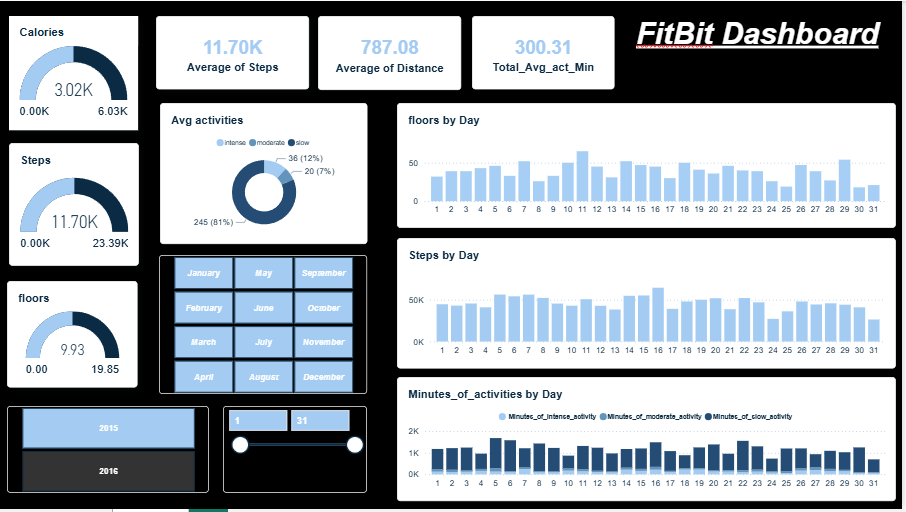

This screenshot's page, from the dashboard's own definition file:
{"tool":"powerbi","page":{"name":"Page 1","canvas":[1280,720],"ordinal":0},"visuals":[{"type":"gauge","title":"Calories","fields":{"Y":["Avg(data_fit.Calories)"]},"box":[15.6,21.3,182.8,161.6],"z":0},{"type":"gauge","title":" Steps","fields":{"Y":["Avg(data_fit.Steps)"]},"box":[15.6,201.3,184.3,174.3],"z":1000},{"type":"gauge","title":" floors","fields":{"Y":["Avg(CSV.floors)"]},"box":[13.4,396.4,184.8,151.2],"z":2000},{"type":"card","fields":{"Values":["Avg(CSV.Distance)"]},"box":[453.5,21.3,202.7,104.9],"z":3000},{"type":"card","fields":{"Values":["Avg(CSV.Steps)"]},"box":[223.4,21.8,216.7,104.1],"z":4000},{"type":"donutChart","title":"Avg activities","fields":{"Y":["Avg(data_fit.Minutes_of_intense_activity)","Avg(data_fit.Minutes_of_moderate_activity)","Avg(data_fit.Minutes_of_slow_activity)"]},"box":[230.1,144.9,294.1,200.3],"z":5000},{"type":"slicer","fields":{"Values":["data_fit.Date.Variation.Date Hierarchy.Month"]},"box":[228.2,360,294.8,197],"z":6000},{"type":"columnChart","fields":{"Y":["Sum(data_fit.Steps)"],"Category":["data_fit.Date.Variation.Date Hierarchy.Day"]},"box":[566.1,336,707.2,184.8],"z":7000},{"type":"clusteredColumnChart","fields":{"Y":["Sum(data_fit.floors)"],"Category":["data_fit.Date.Variation.Date Hierarchy.Day"]},"box":[565.5,144.6,707.2,177.2],"z":8000},{"type":"columnChart","title":" Minutes_of_activities by Day","fields":{"Y":["Sum(data_fit.Minutes_of_intense_activity)","Sum(data_fit.Minutes_of_moderate_activity)","Sum(data_fit.Minutes_of_slow_activity)"],"Category":["data_fit.Date.Variation.Date Hierarchy.Day"]},"box":[566.1,532.5,707.2,176.4],"z":9000},{"type":"slicer","fields":{"Values":["data_fit.Date.Variation.Date Hierarchy.Day"]},"box":[318.9,574,204.1,123.3],"z":10000},{"type":"slicer","fields":{"Values":["data_fit.Date.Variation.Date Hierarchy.Year"]},"box":[12.8,574,286.3,123.3],"z":11000},{"type":"textbox","box":[904.3,21.3,368.5,70.9],"z":12000},{"type":"card","fields":{"Values":["data_fit.Total_Avg_Minutes"]},"box":[671.9,21.8,201.6,104.1],"z":13000}]}

Visuals, with their boxes in screenshot pixels (x1, y1, x2, y2), scaled from the page's 1280x720 canvas onto the 906x512 screenshot:
"Calories" gauge: (left=11, top=15, right=140, bottom=130)
" Steps" gauge: (left=11, top=143, right=141, bottom=267)
" floors" gauge: (left=9, top=282, right=140, bottom=389)
card - Avg(CSV.Distance): (left=321, top=15, right=464, bottom=90)
card - Avg(CSV.Steps): (left=158, top=16, right=312, bottom=90)
"Avg activities" donutChart: (left=163, top=103, right=371, bottom=245)
slicer - data_fit.Date.Variation.Date Hierarchy.Month: (left=162, top=256, right=370, bottom=396)
columnChart - Sum(data_fit.Steps) x data_fit.Date.Variation.Date Hierarchy.Day: (left=401, top=239, right=901, bottom=370)
clusteredColumnChart - Sum(data_fit.floors) x data_fit.Date.Variation.Date Hierarchy.Day: (left=400, top=103, right=901, bottom=229)
" Minutes_of_activities by Day" columnChart: (left=401, top=379, right=901, bottom=504)
slicer - data_fit.Date.Variation.Date Hierarchy.Day: (left=226, top=408, right=370, bottom=496)
slicer - data_fit.Date.Variation.Date Hierarchy.Year: (left=9, top=408, right=212, bottom=496)
textbox: (left=640, top=15, right=901, bottom=66)
card - data_fit.Total_Avg_Minutes: (left=476, top=16, right=618, bottom=90)
